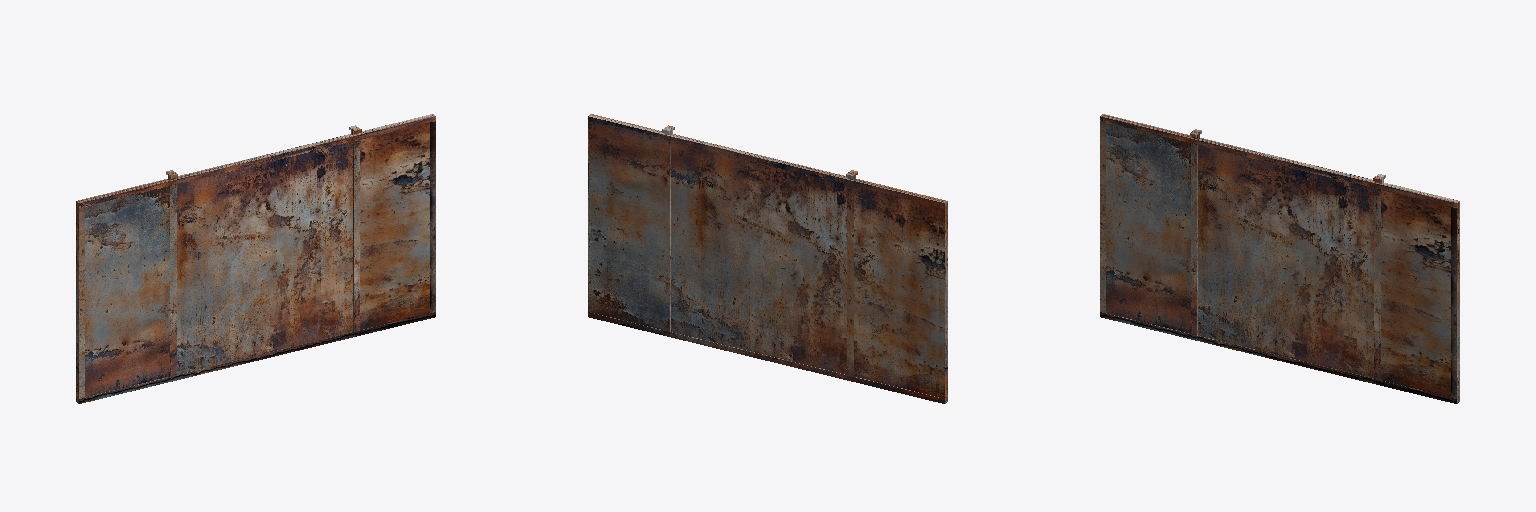
The picture shows the model from 3 angles: view 1: azimuth 30°, elevation 25°; view 2: azimuth 150°, elevation 25°; view 3: azimuth 330°, elevation 25°; orthographic projection.
Parts seen in each view (by area): view 1: Puerta_metalica_OG_Animar_; view 2: Puerta_metalica_OG_Animar_; view 3: Puerta_metalica_OG_Animar_.
Part boxes in pixels (bbox=[...]): Puerta_metalica_OG_Animar_: bbox=[76, 114, 435, 403]; Puerta_metalica_OG_Animar_: bbox=[588, 114, 947, 403]; Puerta_metalica_OG_Animar_: bbox=[1100, 114, 1459, 403].
Size of the model in its own units: 1.26 by 0.6993 by 0.035.
1 materials, 1 textured.